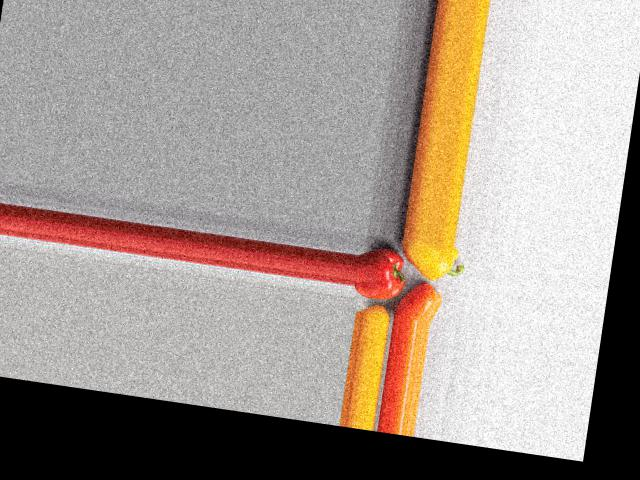bell_pepper: (354, 241, 408, 302)
